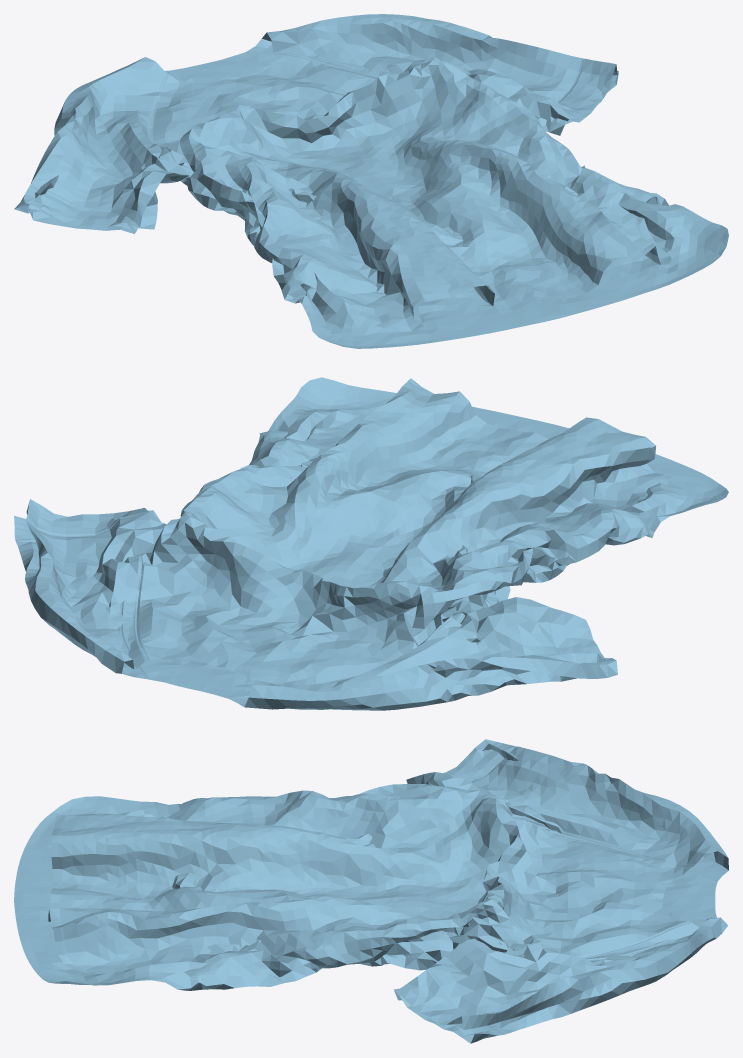
Rendered from frame_01.glb.
The picture shows the model from 3 angles, top to bottom: view 1: azimuth 30°, elevation 25°; view 2: azimuth 150°, elevation 25°; view 3: azimuth 270°, elevation 25°; orthographic projection. The views are drawn at different scales.
Visible parts, largest first — view 1: frame_01.obj; view 2: frame_01.obj; view 3: frame_01.obj.
Boxes of the visible parts, x1=… form: frame_01.obj: x1=14, y1=14, x2=728, y2=348; frame_01.obj: x1=14, y1=377, x2=728, y2=710; frame_01.obj: x1=14, y1=739, x2=728, y2=1043.
Bounding box in the file's own units: 1.75 × 0.1794 × 1.82.
